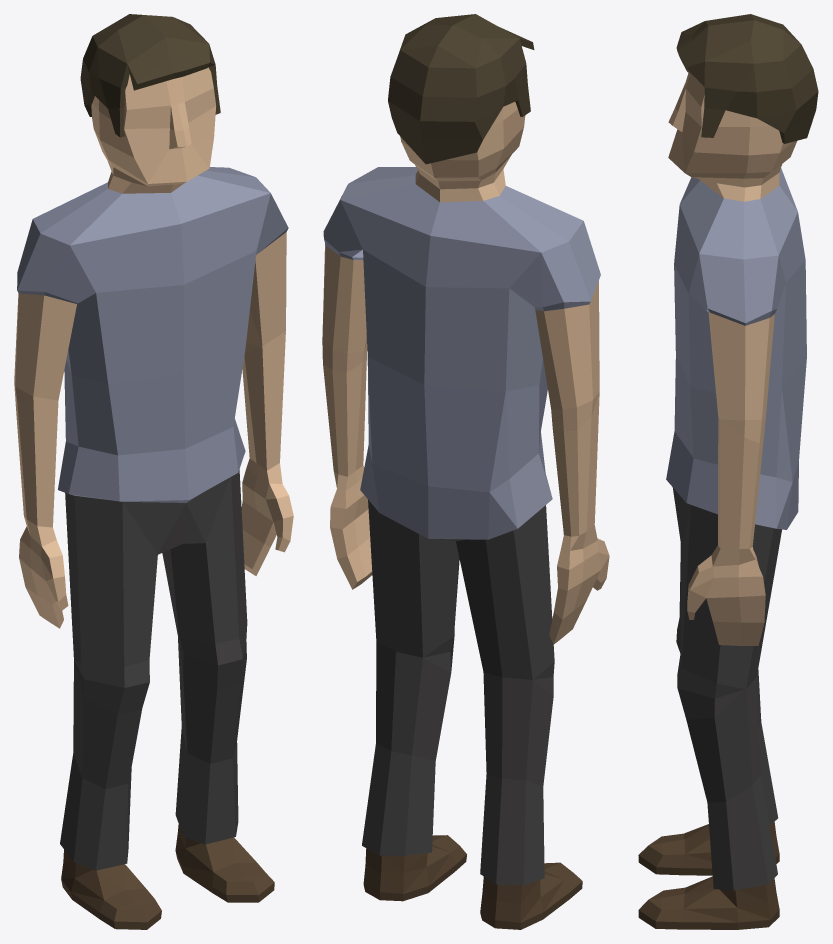
The model's file is Male_Standing.glb.
3 views of the same model, side by side, from view 1: azimuth 30°, elevation 25°; view 2: azimuth 150°, elevation 25°; view 3: azimuth 270°, elevation 25° (orthographic). The views are drawn at different scales.
Visible parts, largest first — view 1: Male_Standing; view 2: Male_Standing; view 3: Male_Standing.
Boxes of the visible parts, x1,y1,x2,y2 form: Male_Standing: (14,14,293,929); Male_Standing: (322,14,609,929); Male_Standing: (638,14,818,929).
Size of the model in its own units: 0.5758 by 1.8 by 0.337.
